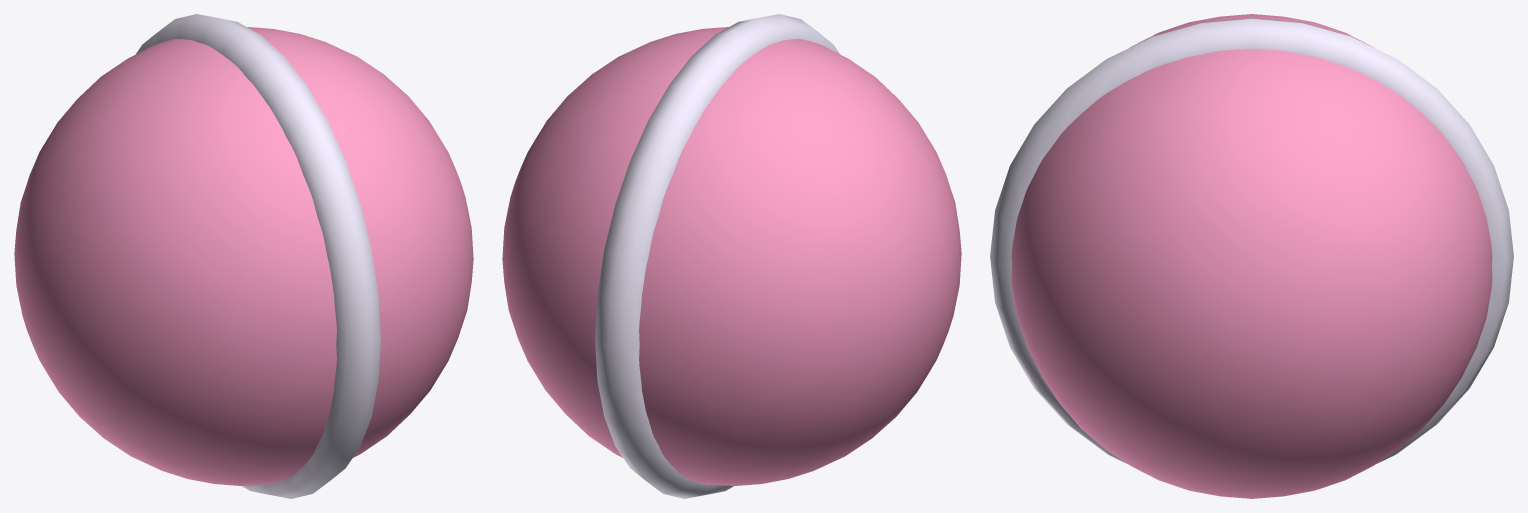
File: ArcadeSkeeBall.glb
The picture shows the model from 3 angles, left to right: view 1: azimuth 30°, elevation 25°; view 2: azimuth 150°, elevation 25°; view 3: azimuth 270°, elevation 25°; orthographic projection. The views are drawn at different scales.
Parts seen in each view (by area): view 1: Ball, Band; view 2: Ball, Band; view 3: Ball, Band.
Part boxes in pixels (box(x1,y1,x2,y2)): Ball: box(14, 27, 473, 485); Band: box(135, 14, 380, 498); Ball: box(502, 27, 961, 485); Band: box(595, 14, 840, 498); Ball: box(1011, 14, 1492, 498); Band: box(990, 18, 1513, 463).
Size of the model in its own units: 0.72 by 0.7776 by 0.7776.
